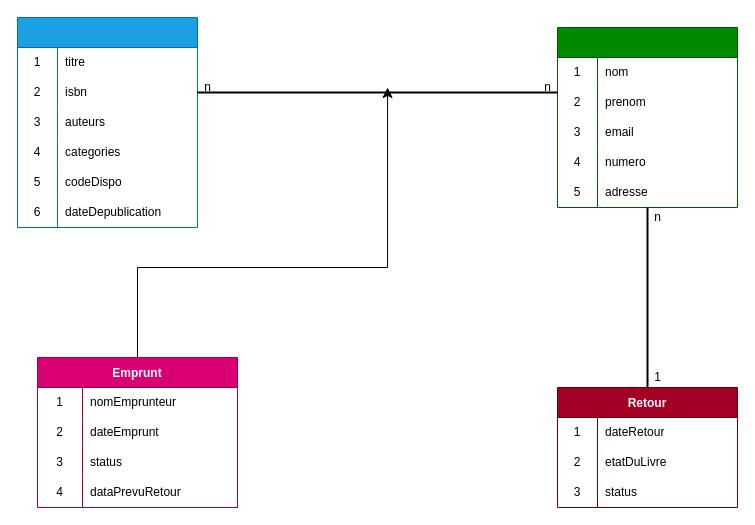
Some shapes in this 755 by 525 pixel diagram are drawn without their labels. The box of each missing label's shape, as (x1, y1, x2, y2) in pixels:
Emprunteurs: (556, 26, 738, 208)
Livres: (16, 16, 198, 228)
